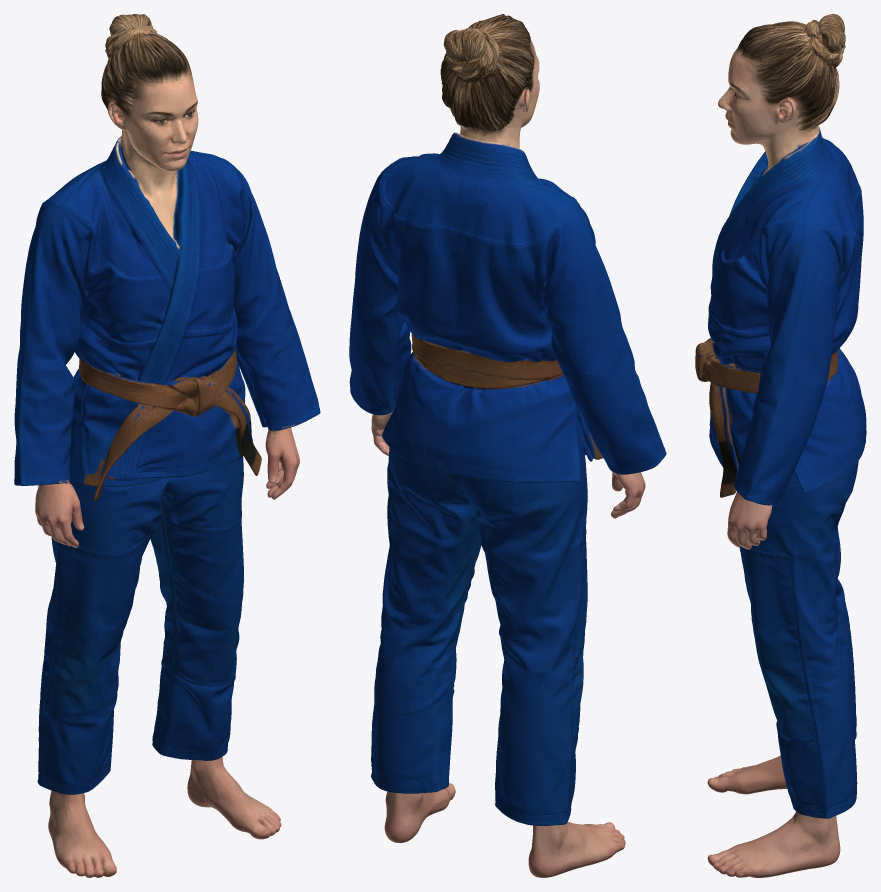
File: demo-bjj-gi-women.glb
3 views of the same model, side by side, from view 1: azimuth 30°, elevation 25°; view 2: azimuth 150°, elevation 25°; view 3: azimuth 270°, elevation 25° (orthographic). The views are drawn at different scales.
Size of the model in its own units: 0.7453 by 1.9 by 0.3638.
1 material, 1 textured.
